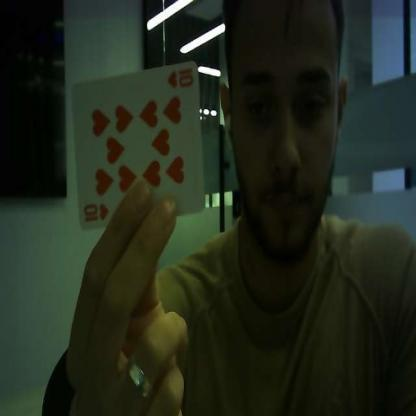10H: (166, 64, 192, 89), (82, 201, 108, 222)
